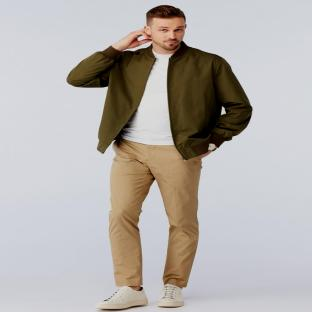Human: (67, 5, 252, 308)
